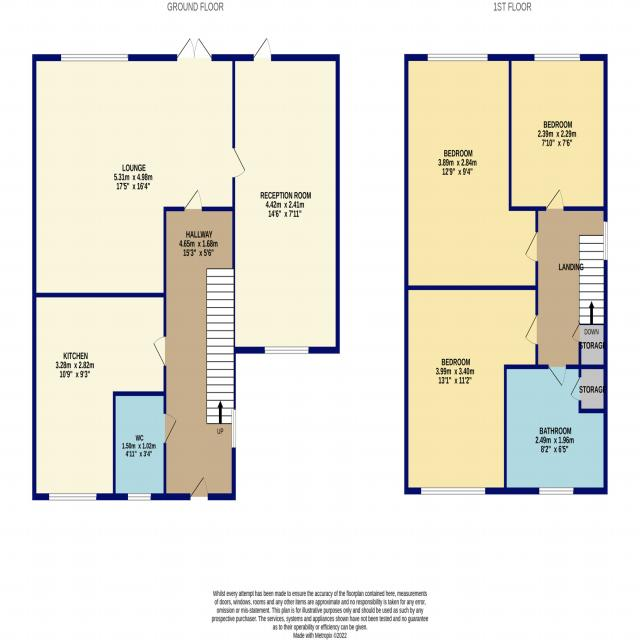DOOR: (252, 35, 274, 62), (189, 474, 209, 500), (163, 411, 178, 445), (152, 335, 167, 367), (524, 314, 539, 346), (184, 188, 203, 212), (548, 364, 567, 387), (524, 231, 538, 262), (546, 188, 564, 212), (232, 148, 246, 178)
DOUBLE DOOR: (176, 35, 213, 61)
ROOM: (31, 35, 248, 298), (231, 36, 341, 355), (404, 53, 538, 290), (404, 284, 539, 494), (32, 292, 167, 501), (508, 54, 608, 211)
WINDOW: (59, 53, 130, 62), (263, 344, 311, 356), (427, 53, 488, 62), (421, 487, 486, 495), (48, 492, 98, 501), (534, 53, 581, 62), (539, 487, 574, 495), (127, 492, 152, 501), (603, 220, 608, 261), (231, 408, 236, 449)
